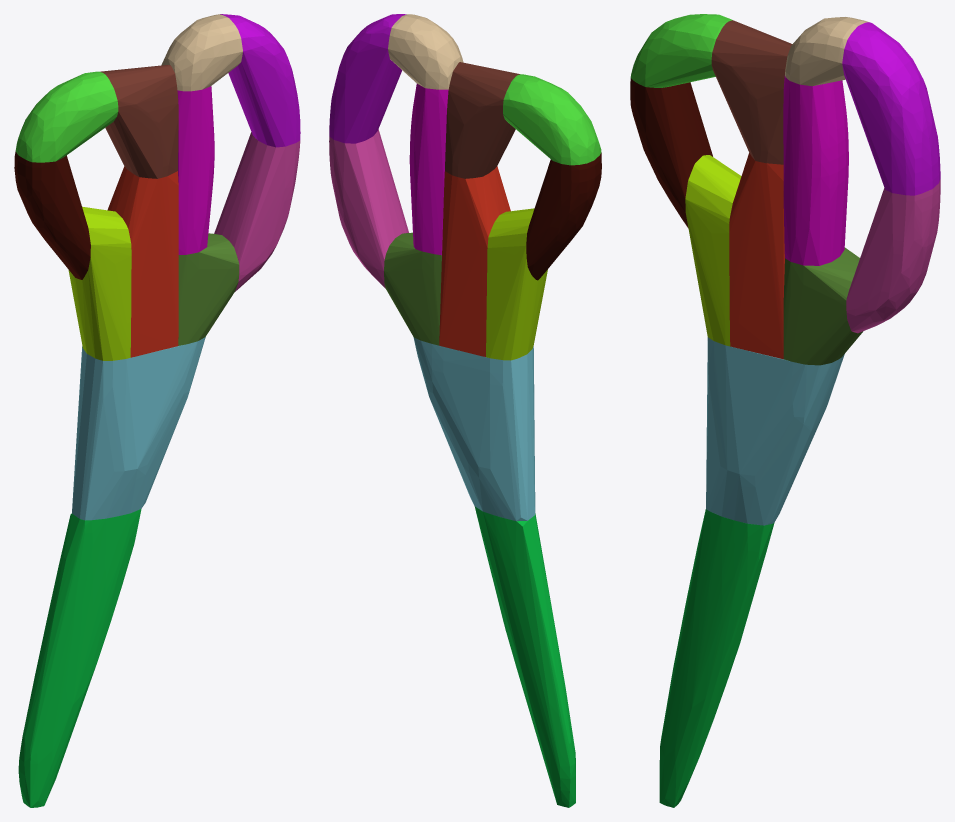
The model's file is coacd_merged.obj.
3 renders of one model, left to right at view 1: azimuth 30°, elevation 25°; view 2: azimuth 150°, elevation 25°; view 3: azimuth 330°, elevation 25°, orthographic. The views are drawn at different scales.
Visible parts, largest first — view 1: geometry_1, geometry_0, geometry_10, geometry_4, geometry_11, geometry_3, geometry_2, geometry_8, geometry_6, geometry_9, geometry_5, geometry_7; view 2: geometry_0, geometry_1, geometry_10, geometry_4, geometry_11, geometry_3, geometry_2, geometry_8, geometry_9, geometry_6, geometry_5, geometry_7; view 3: geometry_0, geometry_1, geometry_9, geometry_2, geometry_10, geometry_4, geometry_3, geometry_5, geometry_11, geometry_6, geometry_8, geometry_7.
Part boxes in pixels (x1=…): geometry_1: x1=18, y1=509, x2=141, y2=807; geometry_0: x1=72, y1=337, x2=205, y2=520; geometry_10: x1=107, y1=166, x2=178, y2=357; geometry_4: x1=214, y1=132, x2=300, y2=291; geometry_11: x1=68, y1=206, x2=131, y2=360; geometry_3: x1=100, y1=65, x2=178, y2=178; geometry_2: x1=220, y1=14, x2=300, y2=147; geometry_8: x1=15, y1=71, x2=118, y2=162; geometry_6: x1=14, y1=151, x2=90, y2=279; geometry_9: x1=177, y1=86, x2=214, y2=254; geometry_5: x1=178, y1=233, x2=239, y2=345; geometry_7: x1=161, y1=14, x2=242, y2=91; geometry_0: x1=413, y1=337, x2=535, y2=521; geometry_1: x1=474, y1=506, x2=575, y2=807; geometry_10: x1=439, y1=166, x2=510, y2=356; geometry_4: x1=329, y1=129, x2=408, y2=288; geometry_11: x1=486, y1=208, x2=547, y2=360; geometry_3: x1=445, y1=62, x2=519, y2=178; geometry_2: x1=329, y1=14, x2=406, y2=143; geometry_8: x1=503, y1=74, x2=601, y2=165; geometry_9: x1=409, y1=83, x2=448, y2=255; geometry_6: x1=526, y1=152, x2=601, y2=280; geometry_5: x1=384, y1=232, x2=441, y2=345; geometry_7: x1=388, y1=14, x2=463, y2=89; geometry_0: x1=706, y1=337, x2=844, y2=525; geometry_1: x1=659, y1=509, x2=774, y2=807; geometry_9: x1=783, y1=75, x2=848, y2=265; geometry_2: x1=842, y1=22, x2=940, y2=195; geometry_10: x1=729, y1=153, x2=784, y2=359; geometry_4: x1=846, y1=179, x2=940, y2=333; geometry_3: x1=711, y1=20, x2=792, y2=164; geometry_5: x1=783, y1=247, x2=862, y2=365; geometry_11: x1=685, y1=155, x2=741, y2=346; geometry_6: x1=630, y1=78, x2=712, y2=228; geometry_8: x1=630, y1=14, x2=732, y2=87; geometry_7: x1=785, y1=17, x2=868, y2=86.
Size of the model in its own units: 0.0798 by 0.2115 by 0.0178.
